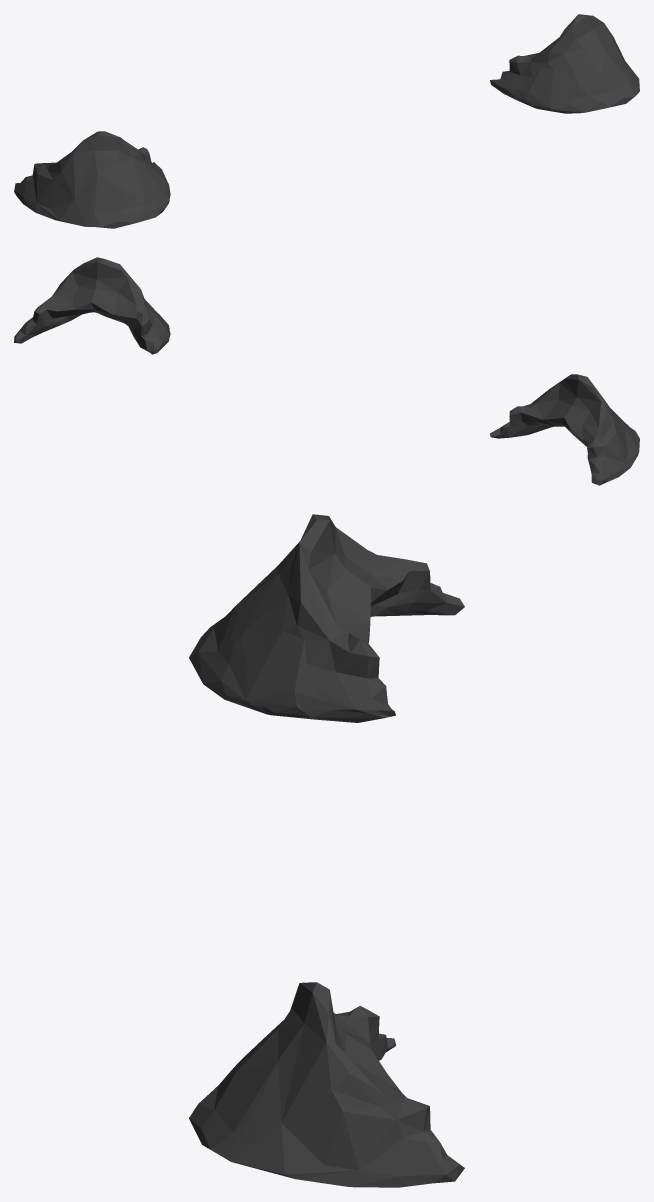
File: skel_HL_phalanx_distal.glb
3 views of the same model, one above another, from view 1: azimuth 30°, elevation 25°; view 2: azimuth 150°, elevation 25°; view 3: azimuth 270°, elevation 25° (orthographic). The views are drawn at different scales.
Parts seen in each view (by area): view 1: skel_HL_phalanx_distal; view 2: skel_HL_phalanx_distal; view 3: skel_HL_phalanx_distal.
Part boxes in pixels (x1,y1,x2,y2): skel_HL_phalanx_distal: (14, 14, 639, 228); skel_HL_phalanx_distal: (14, 257, 639, 485); skel_HL_phalanx_distal: (189, 514, 464, 1187).
Size of the model in its own units: 0.00657 by 0.000776 by 0.00132.
Materials: 1 (1 with a texture image).
